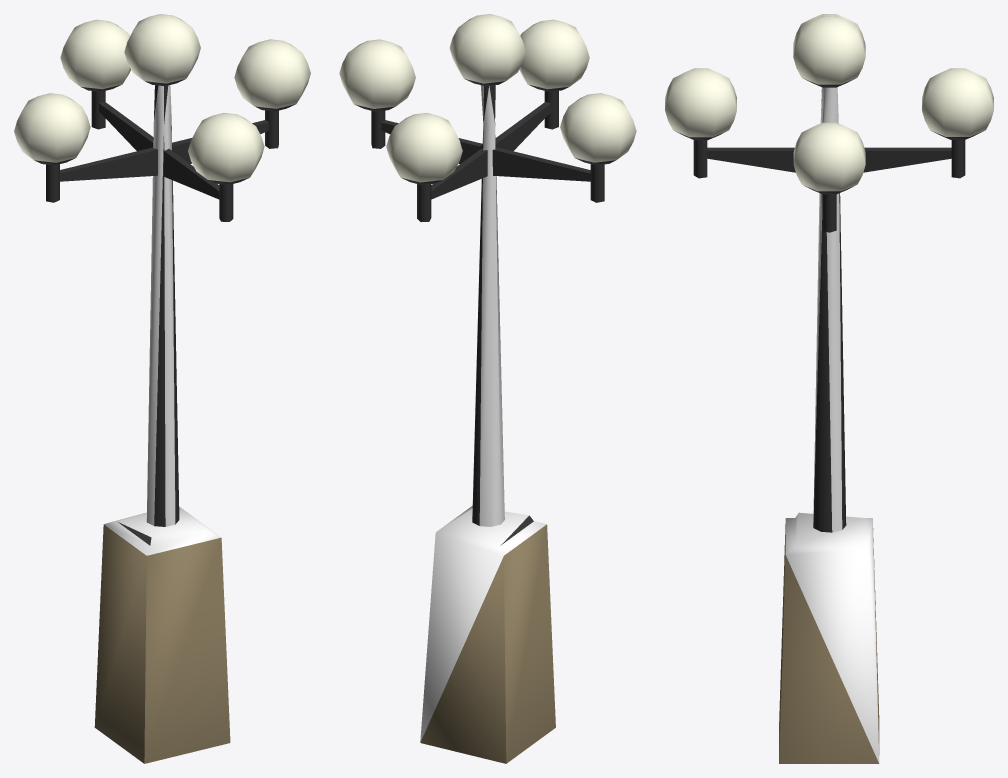
Rendered from Light Post 1.fbx.
3 views of the same model, side by side, from view 1: azimuth 30°, elevation 25°; view 2: azimuth 150°, elevation 25°; view 3: azimuth 270°, elevation 25° (orthographic).
Parts seen in each view (by area): view 1: Model, SimpleSphere01_4, SimpleSphere01_5, SimpleSphere01_3, SimpleSphere01_2, SimpleSphere01_1, arm3, arm4, arm2, Group4, Group3; view 2: Model, SimpleSphere01_5, SimpleSphere01_4, SimpleSphere01_3, SimpleSphere01_1, SimpleSphere01_2, arm3, arm2, arm4, Group3, Group2, Group1 (+1 smaller); view 3: Model, SimpleSphere01_3, SimpleSphere01_5, SimpleSphere01_2, SimpleSphere01_1, arm4, arm2, Group1, Group2, Group4.
Part boxes in pixels (bbox=[...]): Model: bbox=[94, 85, 230, 763]; SimpleSphere01_4: bbox=[14, 93, 90, 165]; SimpleSphere01_5: bbox=[234, 39, 310, 111]; SimpleSphere01_3: bbox=[124, 14, 200, 86]; SimpleSphere01_2: bbox=[188, 113, 264, 184]; SimpleSphere01_1: bbox=[60, 19, 130, 91]; arm3: bbox=[60, 147, 157, 181]; arm4: bbox=[164, 149, 219, 199]; arm2: bbox=[99, 102, 153, 150]; Group4: bbox=[219, 184, 233, 221]; Group3: bbox=[46, 164, 59, 202]; Model: bbox=[420, 85, 555, 763]; SimpleSphere01_5: bbox=[339, 39, 415, 111]; SimpleSphere01_4: bbox=[560, 93, 636, 165]; SimpleSphere01_3: bbox=[449, 14, 525, 86]; SimpleSphere01_1: bbox=[386, 113, 462, 184]; SimpleSphere01_2: bbox=[519, 19, 589, 91]; arm3: bbox=[492, 147, 590, 181]; arm2: bbox=[431, 148, 487, 199]; arm4: bbox=[495, 102, 551, 151]; Group3: bbox=[590, 164, 604, 202]; Group2: bbox=[417, 184, 431, 221]; Group1: bbox=[371, 110, 385, 148]; Model: bbox=[779, 87, 879, 763]; SimpleSphere01_3: bbox=[793, 15, 865, 87]; SimpleSphere01_5: bbox=[793, 122, 865, 194]; SimpleSphere01_2: bbox=[665, 68, 736, 140]; SimpleSphere01_1: bbox=[922, 68, 993, 139]; arm4: bbox=[707, 147, 795, 172]; arm2: bbox=[863, 147, 951, 172]; Group1: bbox=[822, 194, 836, 232]; Group2: bbox=[951, 140, 965, 178]; Group4: bbox=[693, 140, 707, 178].
Size of the model in its own units: 67.93 by 165 by 67.93.
